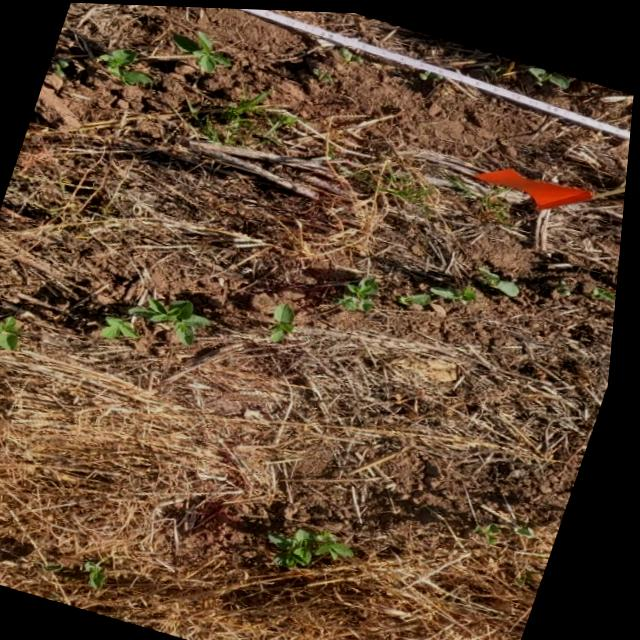grassy_weed: (0, 2, 631, 640), (191, 89, 297, 152), (334, 148, 439, 208), (462, 173, 532, 222)
soy_plant: (107, 296, 217, 343), (278, 524, 364, 563), (175, 30, 232, 70), (401, 280, 481, 304), (343, 273, 385, 309), (483, 262, 524, 292), (528, 60, 575, 84), (278, 299, 301, 337), (0, 316, 25, 347), (94, 558, 117, 586), (490, 518, 511, 539), (342, 47, 364, 58)
